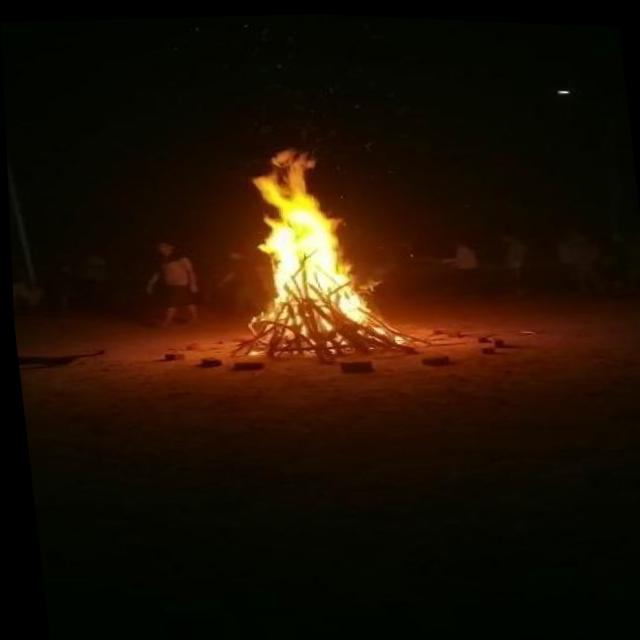fire: (209, 122, 401, 354)
